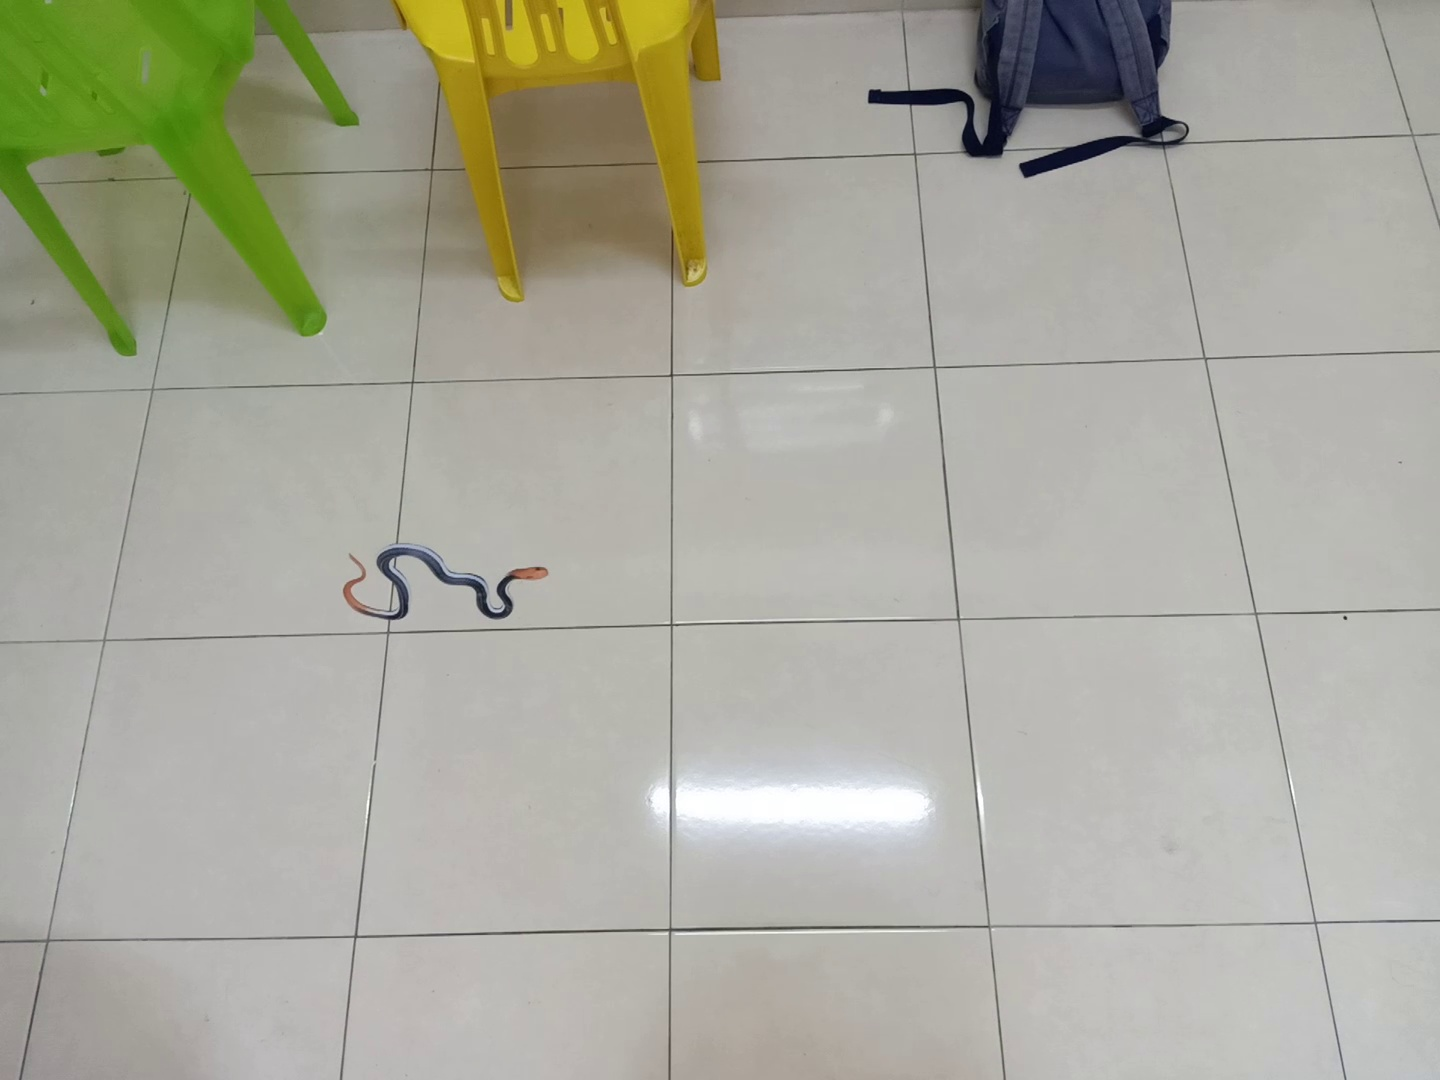snake: (337, 537, 556, 628)
